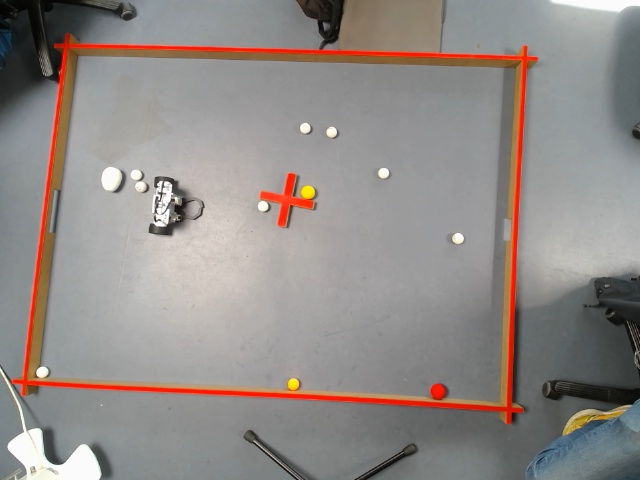big_goal: (27, 173, 73, 242)
cross: (239, 159, 329, 234)
egg: (88, 158, 128, 196)
orange: (277, 372, 310, 399), (296, 180, 323, 206)
robot: (139, 164, 214, 250)
small_goal: (489, 205, 528, 249)
wall: (3, 364, 528, 431), (17, 24, 554, 82), (480, 25, 549, 434), (9, 22, 76, 404)
white: (115, 161, 151, 187), (245, 195, 276, 219), (125, 175, 158, 196), (317, 119, 344, 142), (445, 224, 469, 249), (371, 162, 396, 183), (292, 118, 316, 138)
